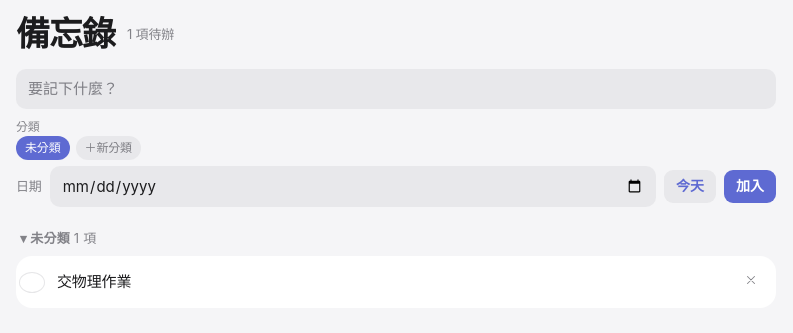
Test: 備忘錄更新失敗復原 › PATCH 失敗後重讀仍未完成時，不讓畫面停在假完成
Click the checkbox named "完成「交物理作業」" at point(32, 282), box [19, 272, 45, 293]
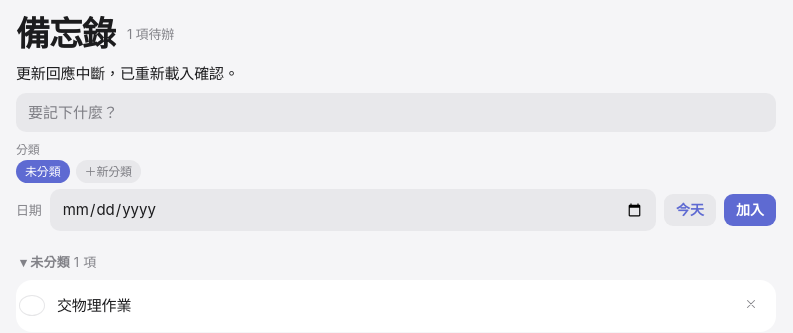
Expected: the checkbox named "完成「交物理作業」" is not checked, [19, 295, 45, 316]
Expected: the message shows "已重新載入確認", [16, 64, 239, 83]
